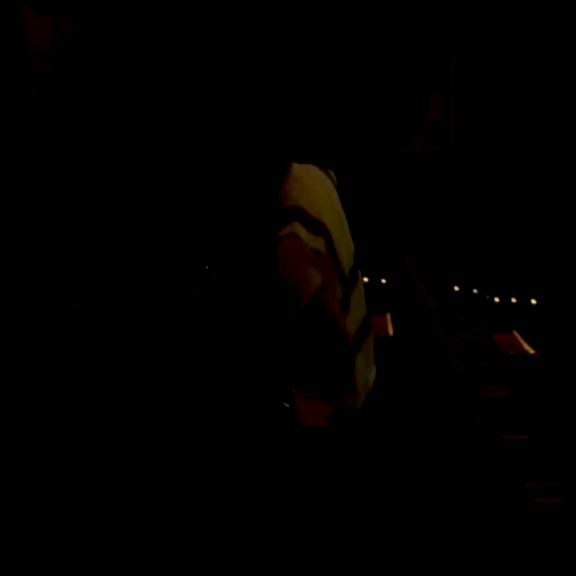safety_vest: (270, 159, 383, 402)
